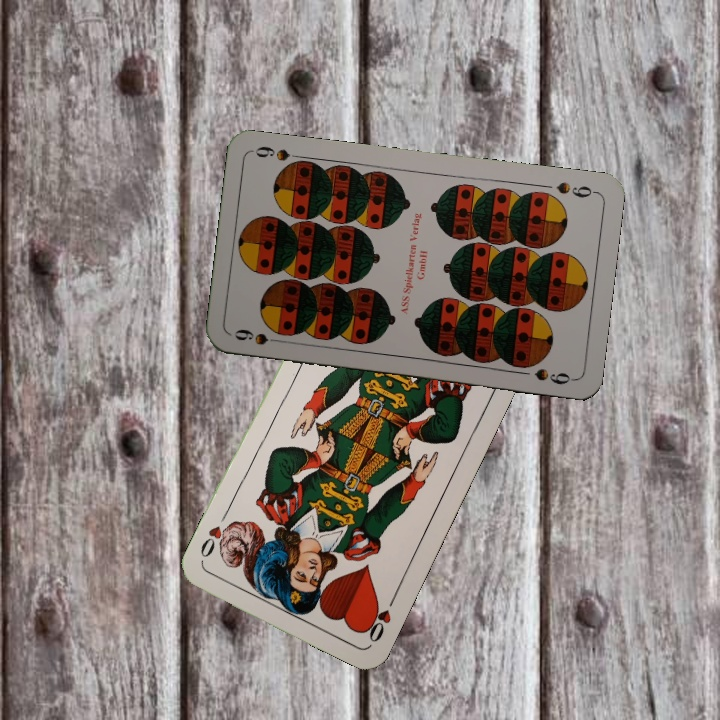HO: (360, 591, 399, 645)
S9: (230, 325, 289, 348), (552, 178, 599, 200)
